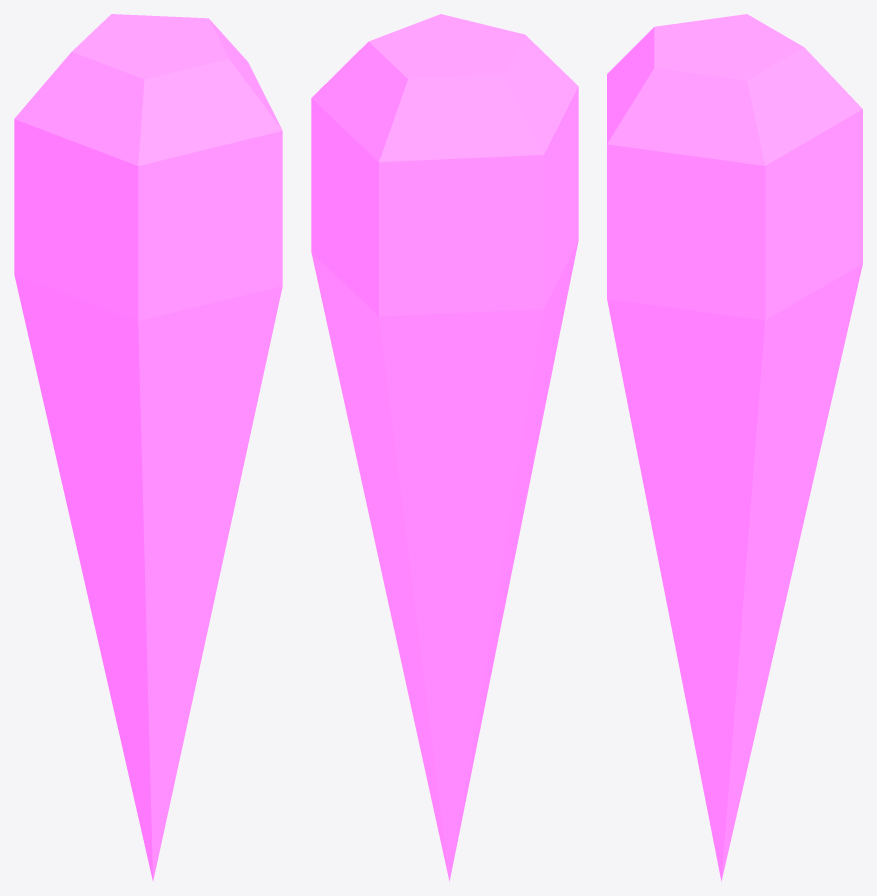
The model's file is pointer.fbx.
3 renders of one model, left to right at view 1: azimuth 30°, elevation 25°; view 2: azimuth 150°, elevation 25°; view 3: azimuth 270°, elevation 25°, orthographic.
Visible parts, largest first — view 1: pointer; view 2: pointer; view 3: pointer.
Boxes of the visible parts, x1=… form: pointer: x1=14, y1=14, x2=282, y2=881; pointer: x1=311, y1=14, x2=578, y2=881; pointer: x1=607, y1=14, x2=862, y2=881.
Bounding box in the file's own units: 49.49 × 169 × 47.07.
